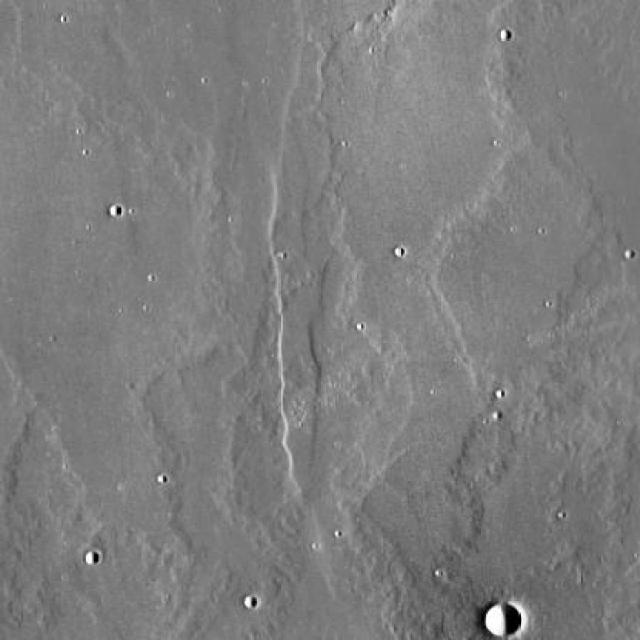crater: (487, 606, 518, 636)
